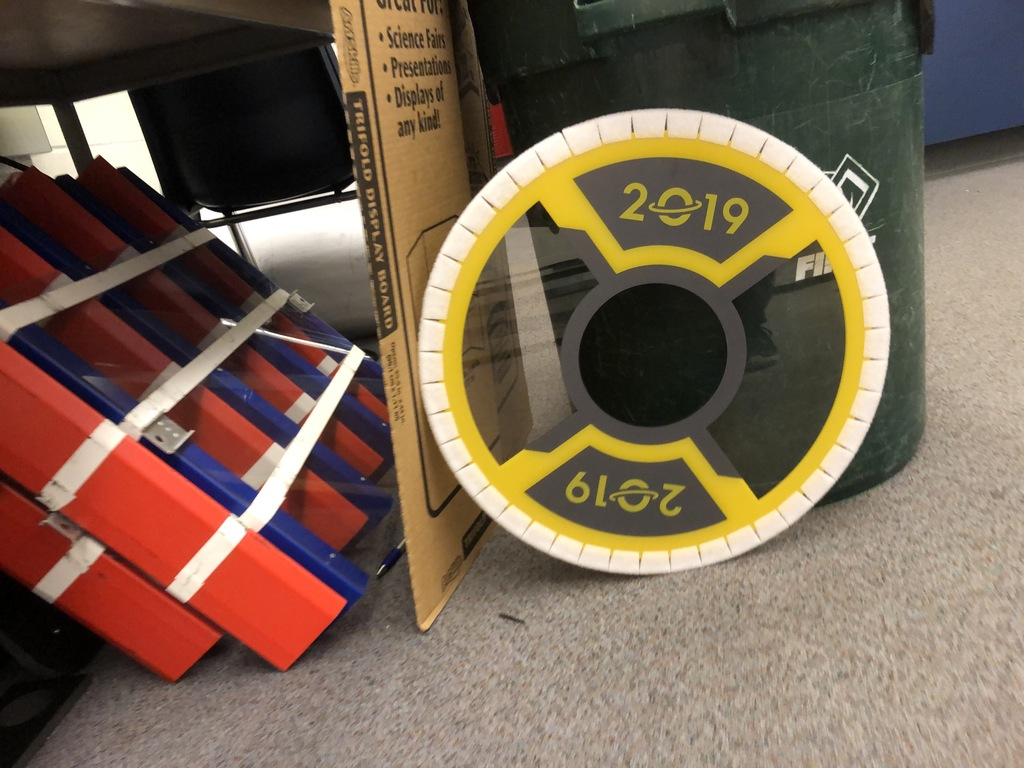hatch_panel: (413, 95, 909, 591)
